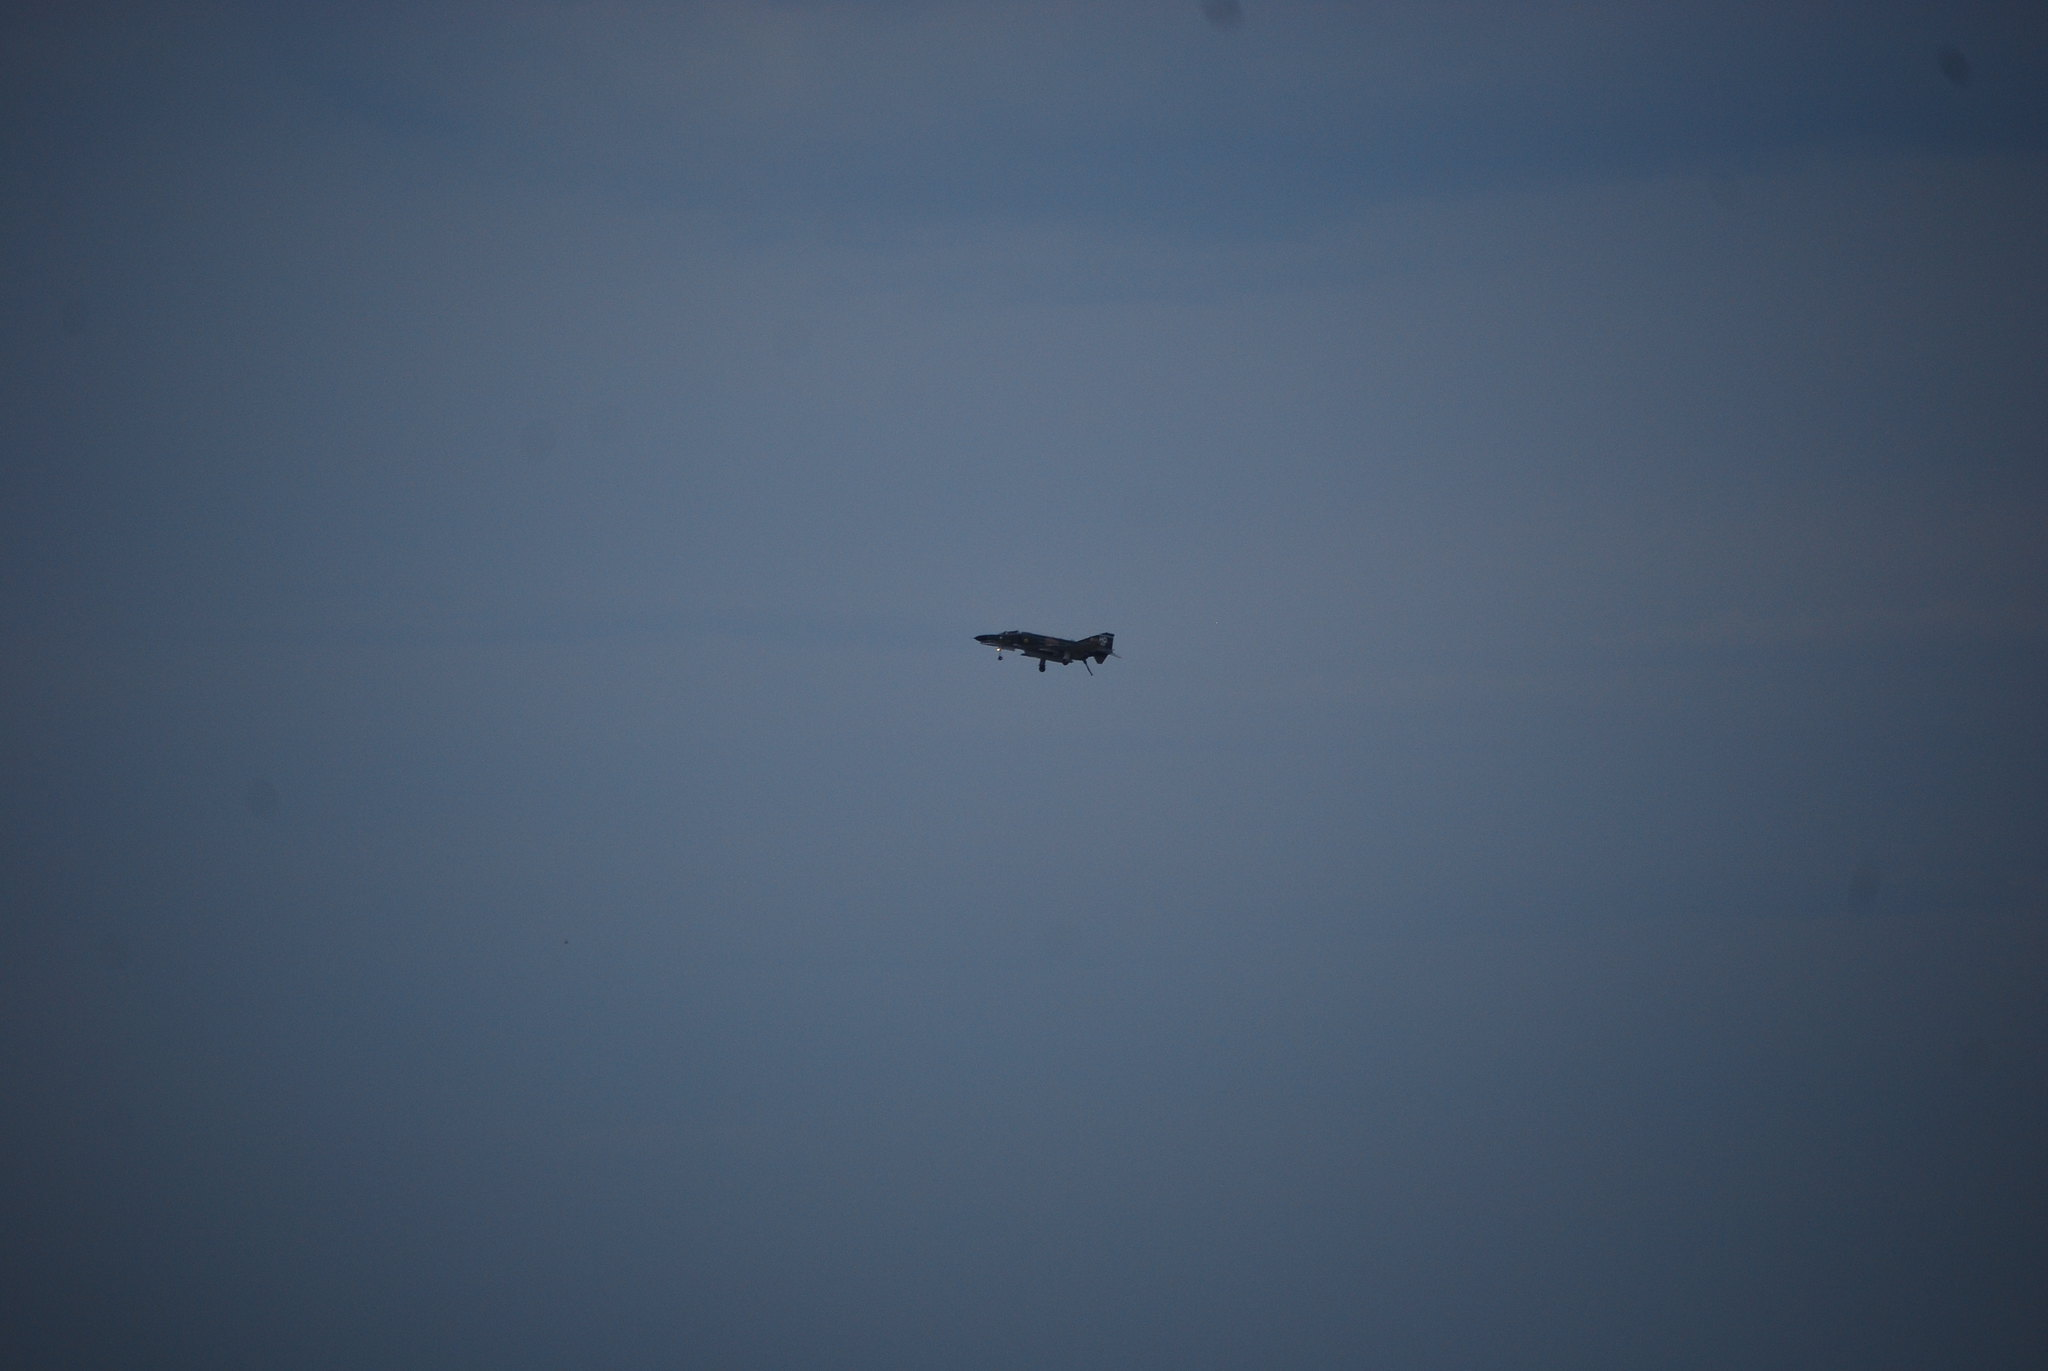F4: (971, 629, 1123, 676)
